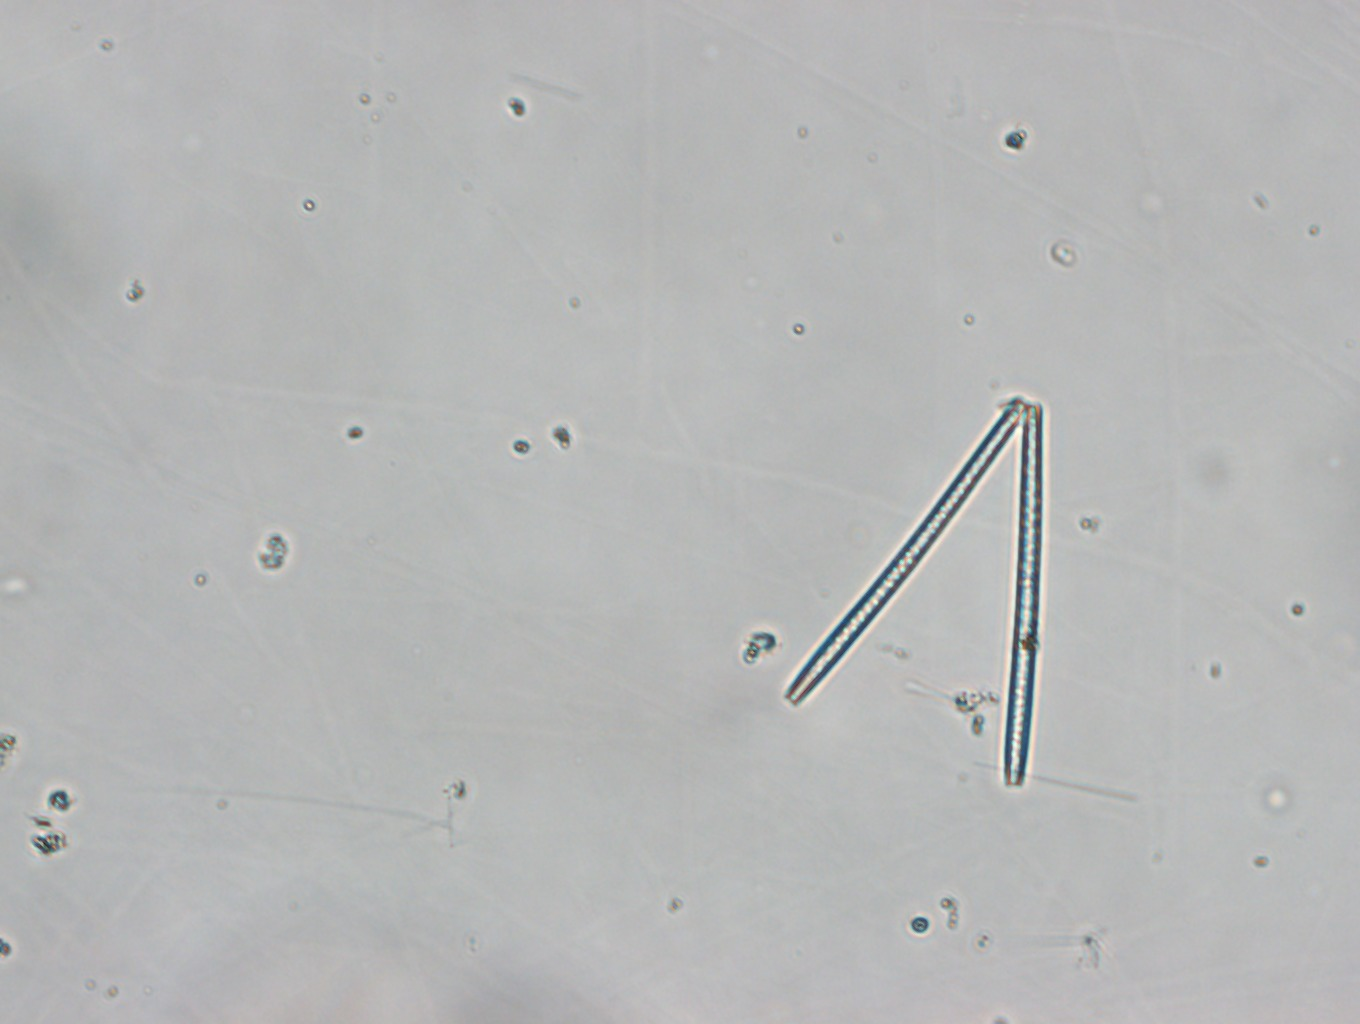thalassionema frauenfeldii: (784, 395, 1046, 787)
